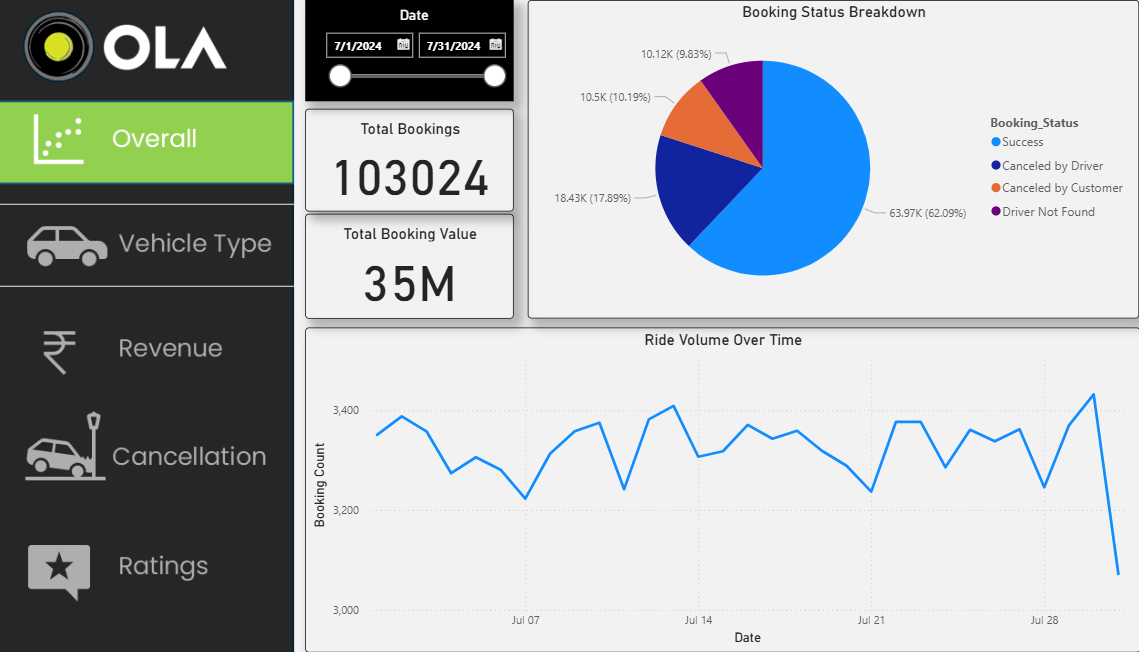

The dashboard page shown, as its layout file describes it:
{"tool":"powerbi","page":{"name":"Overall","canvas":[1280,720],"ordinal":0},"visuals":[{"type":"actionButton","box":[0,223.2,324.5,90.5],"z":0},{"type":"actionButton","box":[1.2,339,324.5,90.5],"z":1000},{"type":"actionButton","box":[0,111,324.5,90.5],"z":2000},{"type":"actionButton","box":[0,447.6,324.5,90.5],"z":3000},{"type":"actionButton","box":[0,577.9,324.5,90.5],"z":4000},{"type":"lineChart","title":"Ride Volume Over Time","fields":{"Category":["July.Date"],"Y":["CountNonNull(July.Booking_ID)"]},"box":[336.2,359.5,916.6,356.8],"z":5000},{"type":"pieChart","title":"Booking Status Breakdown","fields":{"Y":["CountNonNull(July.Booking_ID)"],"Category":["July.Booking_Status"]},"box":[580.4,0,671,349.9],"z":5001},{"type":"slicer","title":"Date","fields":{"Values":["July.Date"]},"box":[336.2,0,229.2,111.1],"z":5002},{"type":"card","title":"Total Bookings","fields":{"Values":["Count(July.Booking_ID)"]},"box":[336.2,119.4,229.2,112.5],"z":5003},{"type":"card","title":"Total Booking Value","fields":{"Values":["Sum(July.Booking_Value)"]},"box":[336.2,234.6,229.2,115.3],"z":5004}]}

Visuals, with their boxes in screenshot pixels (x1, y1, x2, y2), scaled from the page's 1280x720 canvas onto the 1139x652 screenshot:
actionButton: x1=0 y1=202 x2=289 y2=284
actionButton: x1=1 y1=307 x2=290 y2=389
actionButton: x1=0 y1=101 x2=289 y2=182
actionButton: x1=0 y1=405 x2=289 y2=487
actionButton: x1=0 y1=523 x2=289 y2=605
"Ride Volume Over Time" lineChart: x1=299 y1=326 x2=1115 y2=649
"Booking Status Breakdown" pieChart: x1=516 y1=0 x2=1114 y2=317
"Date" slicer: x1=299 y1=0 x2=503 y2=101
"Total Bookings" card: x1=299 y1=108 x2=503 y2=210
"Total Booking Value" card: x1=299 y1=212 x2=503 y2=317
